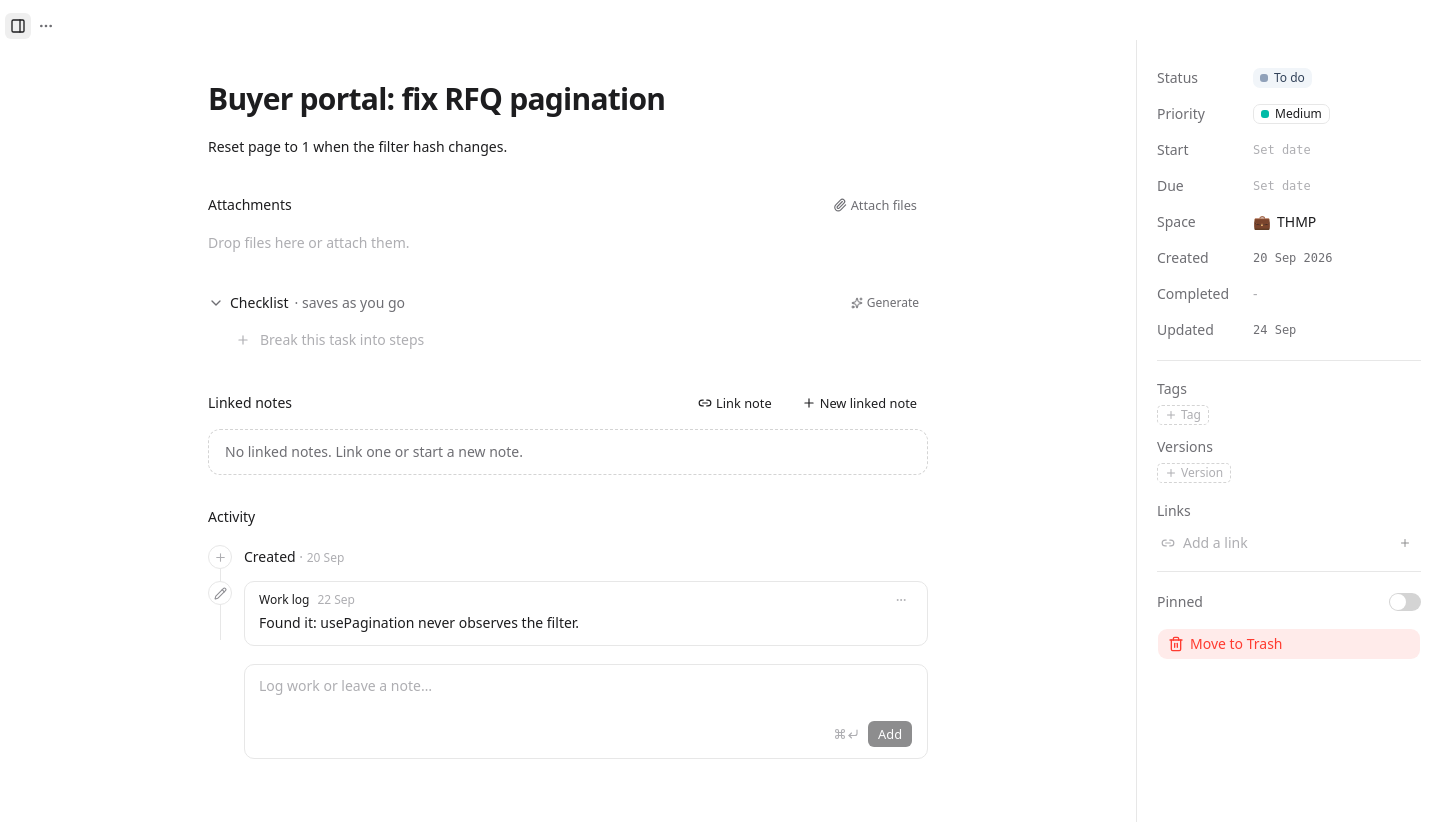
TaskDetailPage › changes status from the rail and shows it in the activity
The image size is (1440, 822).
Expected: the text box named "Task title" is shown, left=208, top=80, right=928, bottom=119
Click the button with aria-label "Change status": (1282, 78) left=1253, top=68, right=1312, bottom=88
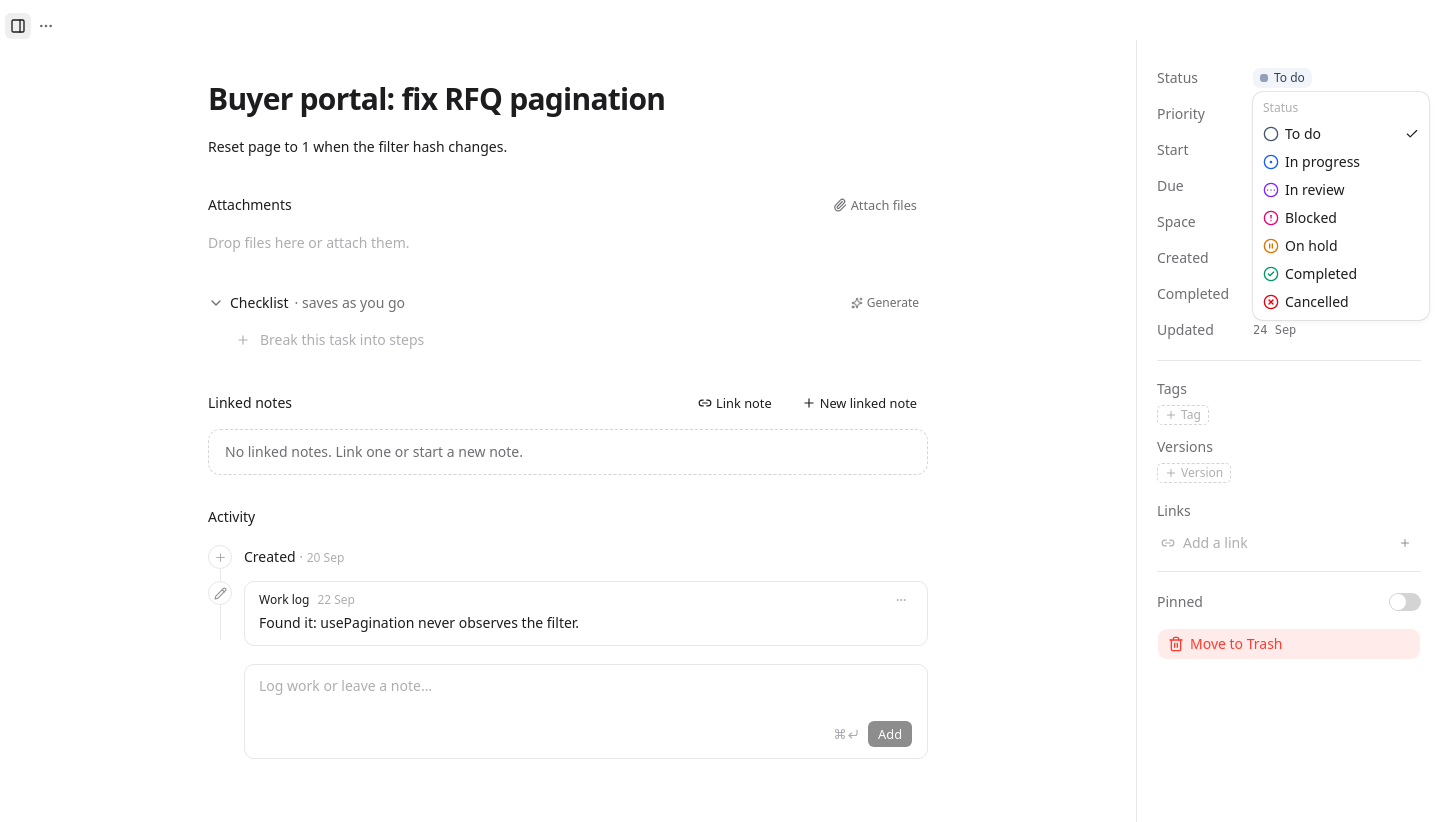
Click the menu item "Blocked": (1300, 218) left=1263, top=208, right=1337, bottom=227
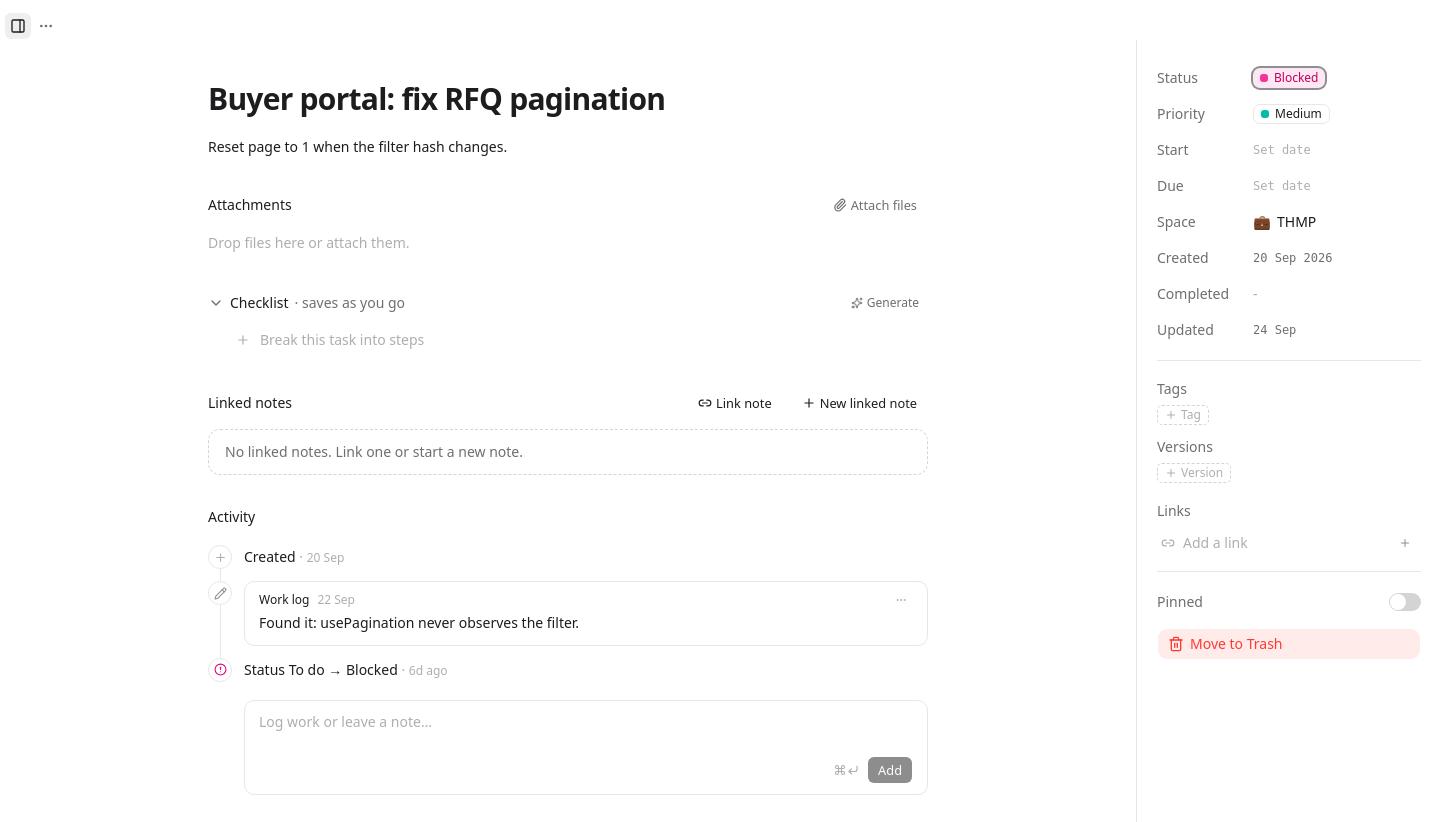
Now the text "Status To do → Blocked" is shown, box left=244, top=660, right=398, bottom=679
